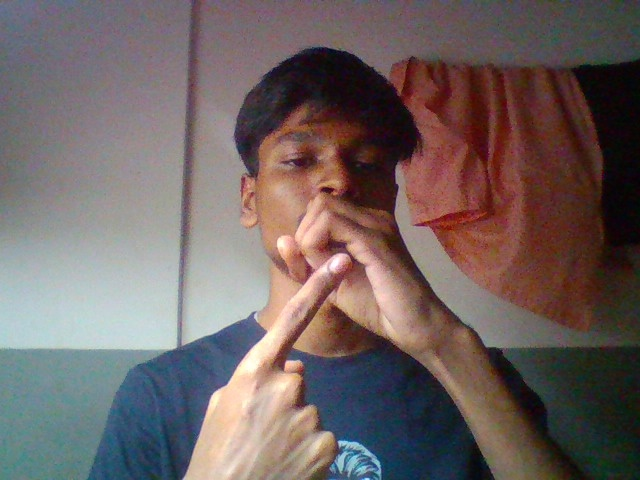Q: (191, 187, 494, 456)
